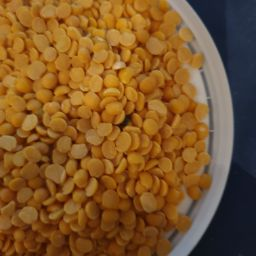Pigeon Pea(toor daal): (3, 3, 224, 256), (15, 24, 177, 219), (41, 95, 184, 248), (30, 48, 196, 155), (50, 62, 143, 214)
